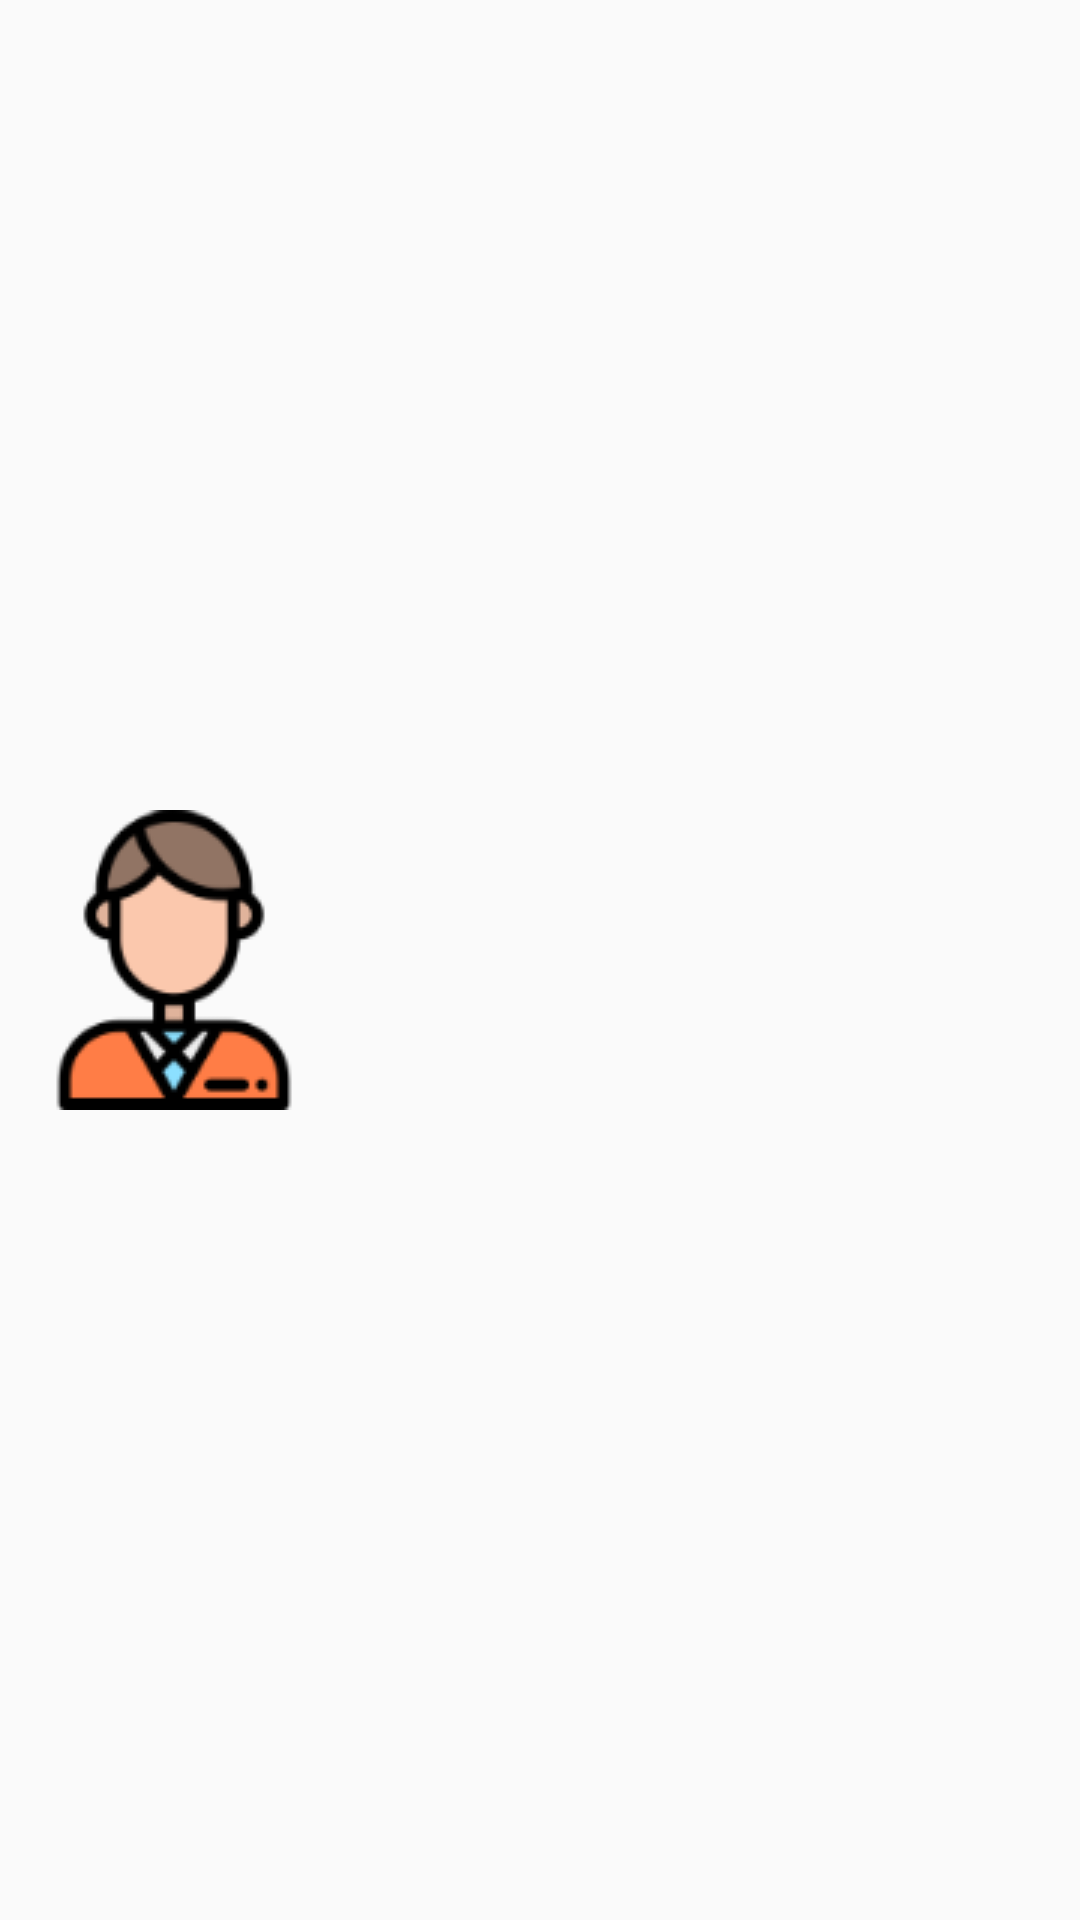

Where icons sit on this 1080 × 1920 app screen, as {"x1": x1, "y1": y1, "x2": x2, "y2": y2}:
man: {"x1": 56, "y1": 810, "x2": 292, "y2": 1110}
